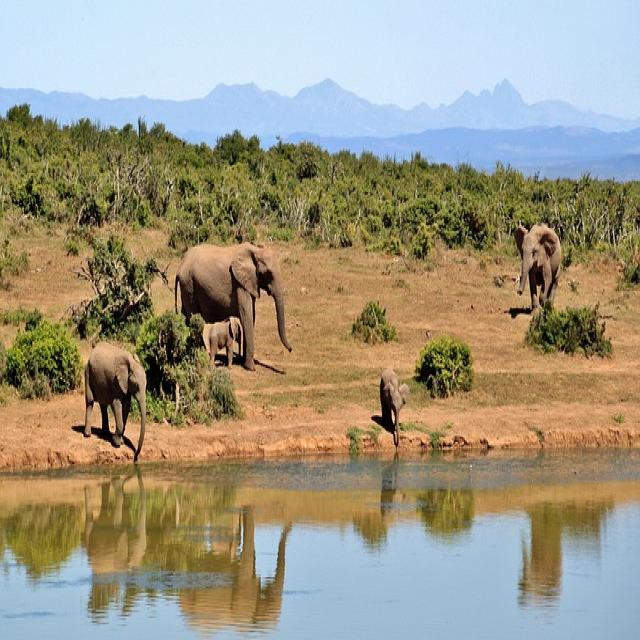elephant: (174, 244, 292, 373), (83, 341, 147, 448), (514, 225, 564, 338), (372, 370, 410, 450)
